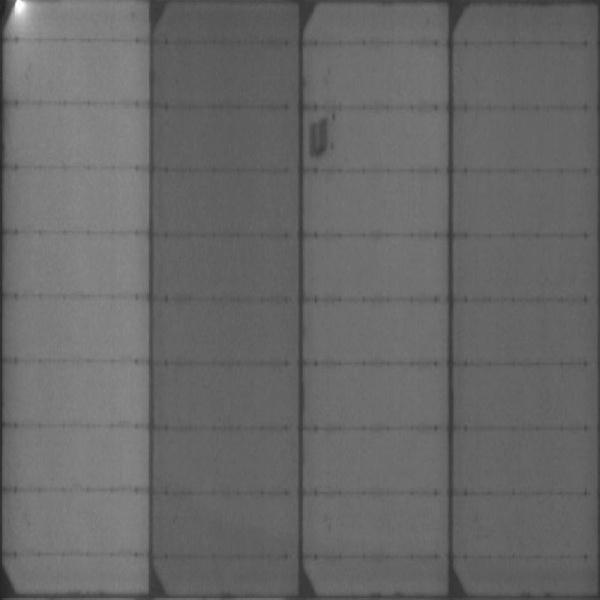hot_spot: (13, 2, 29, 17)
scratch: (307, 116, 331, 158)
